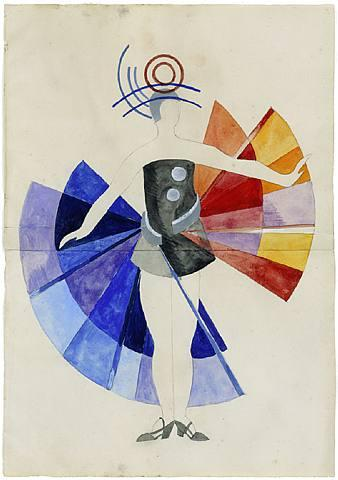person: (53, 84, 311, 449)
